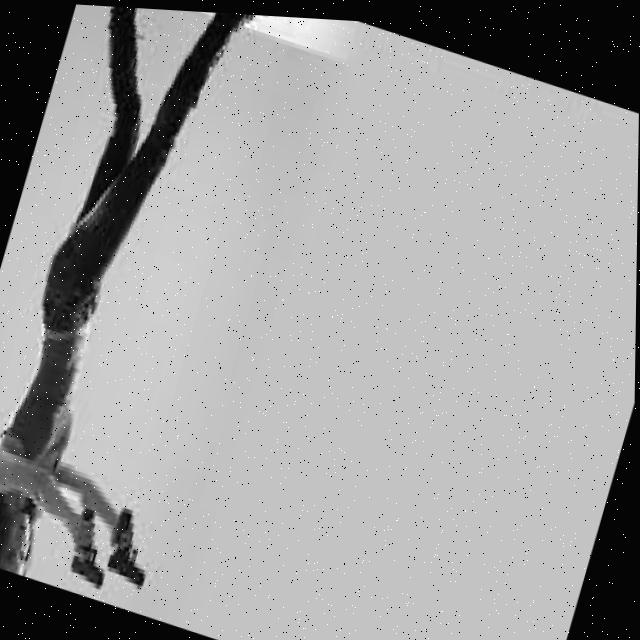pistol: (103, 535, 154, 588), (67, 538, 113, 589)
